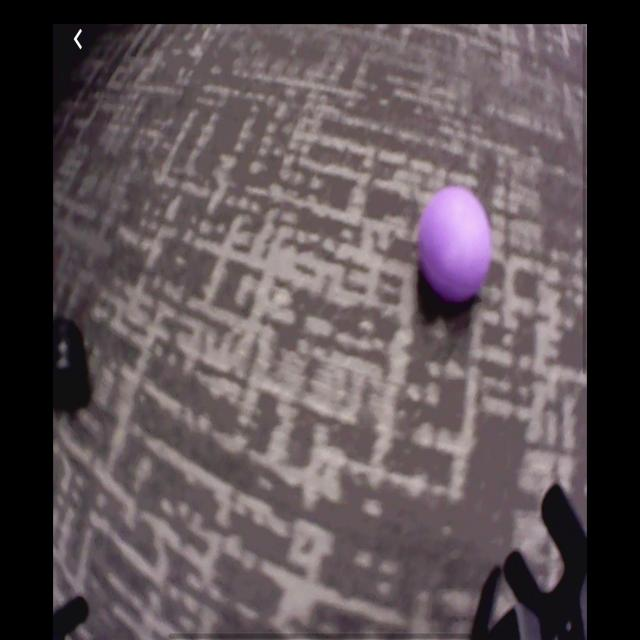ball: (421, 188, 492, 302)
